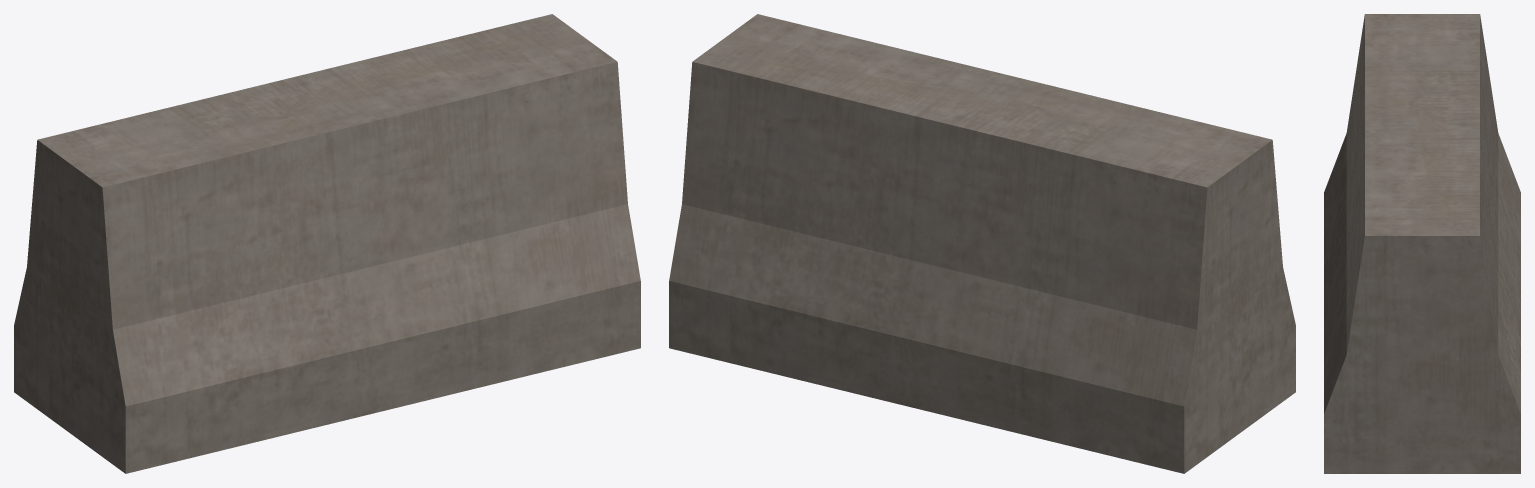
Rendered from detailBarrierStrong_typeA.dae.
3 views of the same model, side by side, from view 1: azimuth 30°, elevation 25°; view 2: azimuth 150°, elevation 25°; view 3: azimuth 270°, elevation 25° (orthographic). The views are drawn at different scales.
Parts seen in each view (by area): view 1: detailBarrierStrong_typeA; view 2: detailBarrierStrong_typeA; view 3: detailBarrierStrong_typeA.
Part boxes in pixels (<box>): detailBarrierStrong_typeA: <box>14,14,640,473</box>; detailBarrierStrong_typeA: <box>669,14,1295,473</box>; detailBarrierStrong_typeA: <box>1324,14,1520,473</box>.
Bounding box in the file's own units: 0.664 × 0.332 × 0.249.
